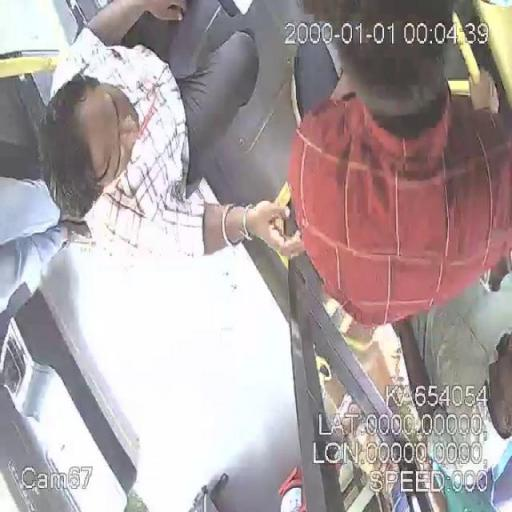persona: (278, 2, 511, 326), (36, 27, 296, 260)
